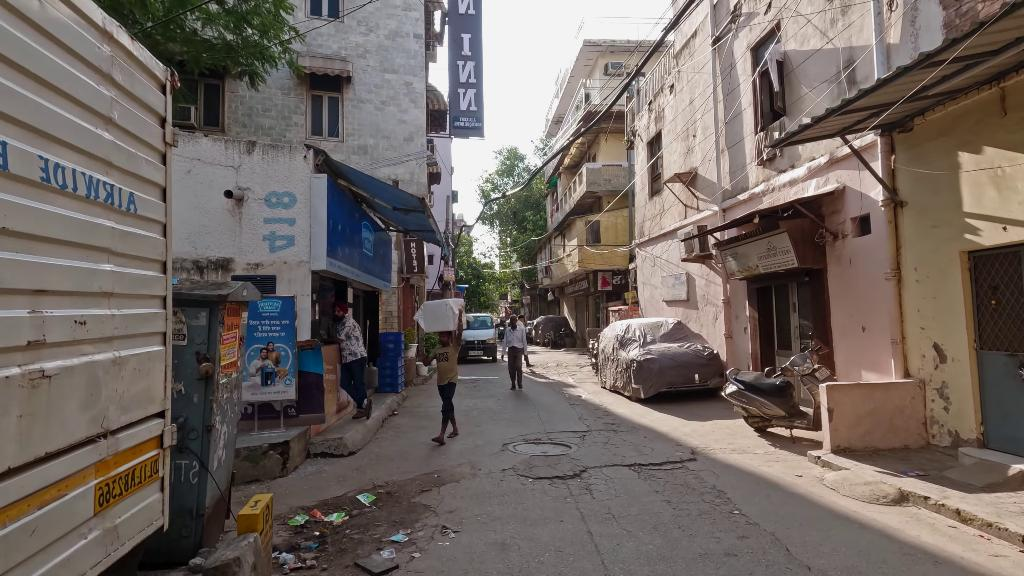garbage: (355, 491, 377, 508), (323, 511, 344, 524), (287, 513, 308, 526)
